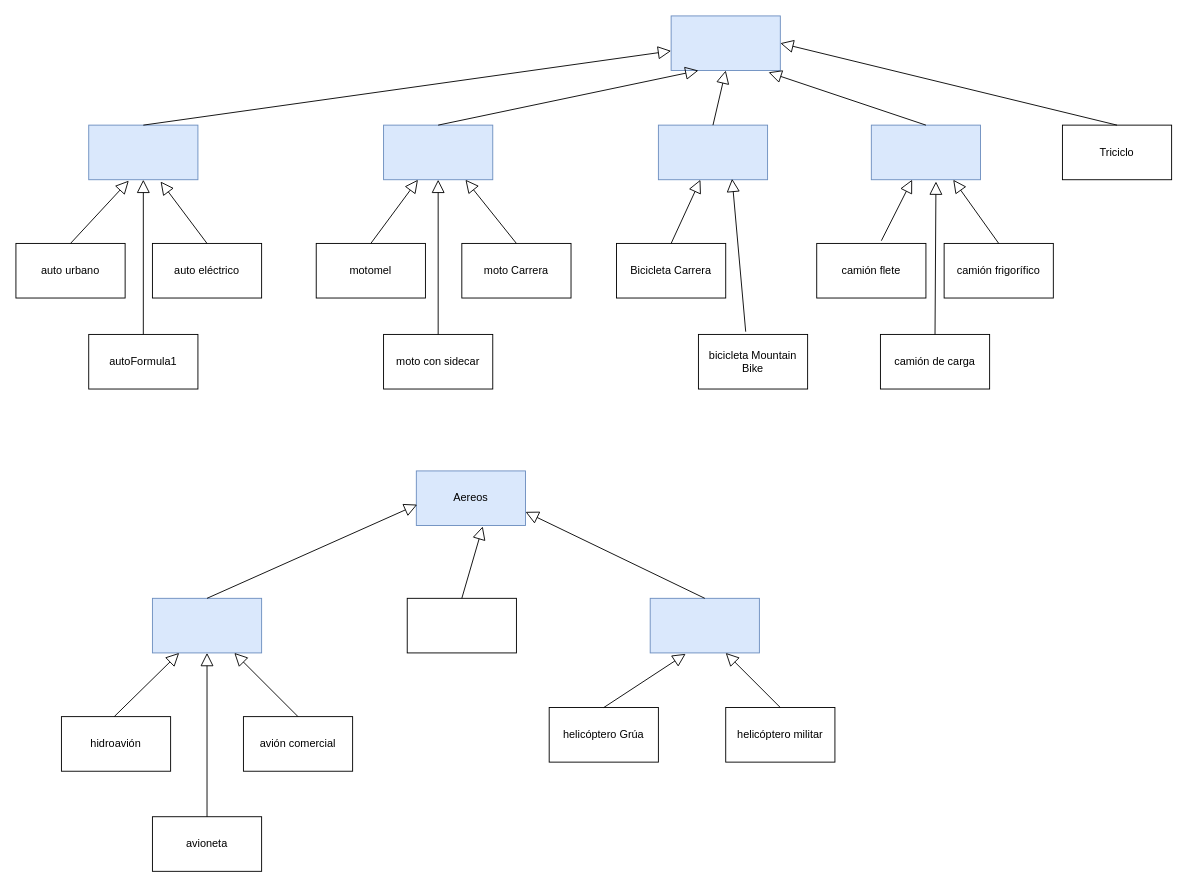
The diagram is 1188 pixels wide and 887 high, and some of its shapes have lost their labels. The centre of each missing label's shape, as x and y in pixels:
"Auto" belongs at pixel 143 152.
"Avión" belongs at pixel 207 625.
"Bici" belongs at pixel 712 152.
"Camion" belongs at pixel 925 152.
"Helicoptero" belongs at pixel 704 625.
"Moto" belongs at pixel 438 152.
"Terrestres" belongs at pixel 725 43.
"Zeppelin" belongs at pixel 461 625.
